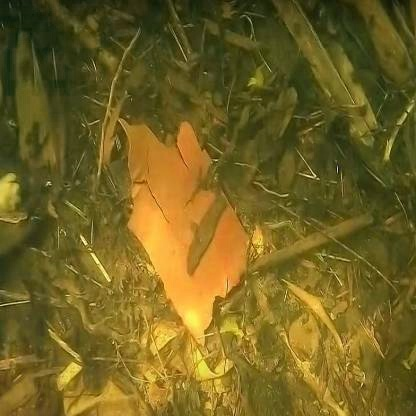misc: (102, 100, 246, 333)
